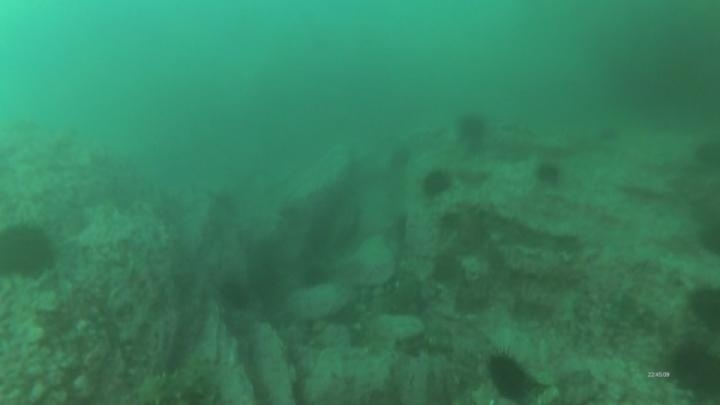echinus: (0, 219, 59, 281), (663, 339, 720, 401), (483, 349, 537, 403), (685, 282, 720, 332), (454, 111, 490, 147), (216, 277, 253, 312), (429, 251, 463, 286), (419, 167, 455, 200), (297, 263, 332, 292), (532, 159, 565, 189), (692, 138, 720, 171), (387, 144, 414, 173)
holothurian: (130, 362, 246, 405)
